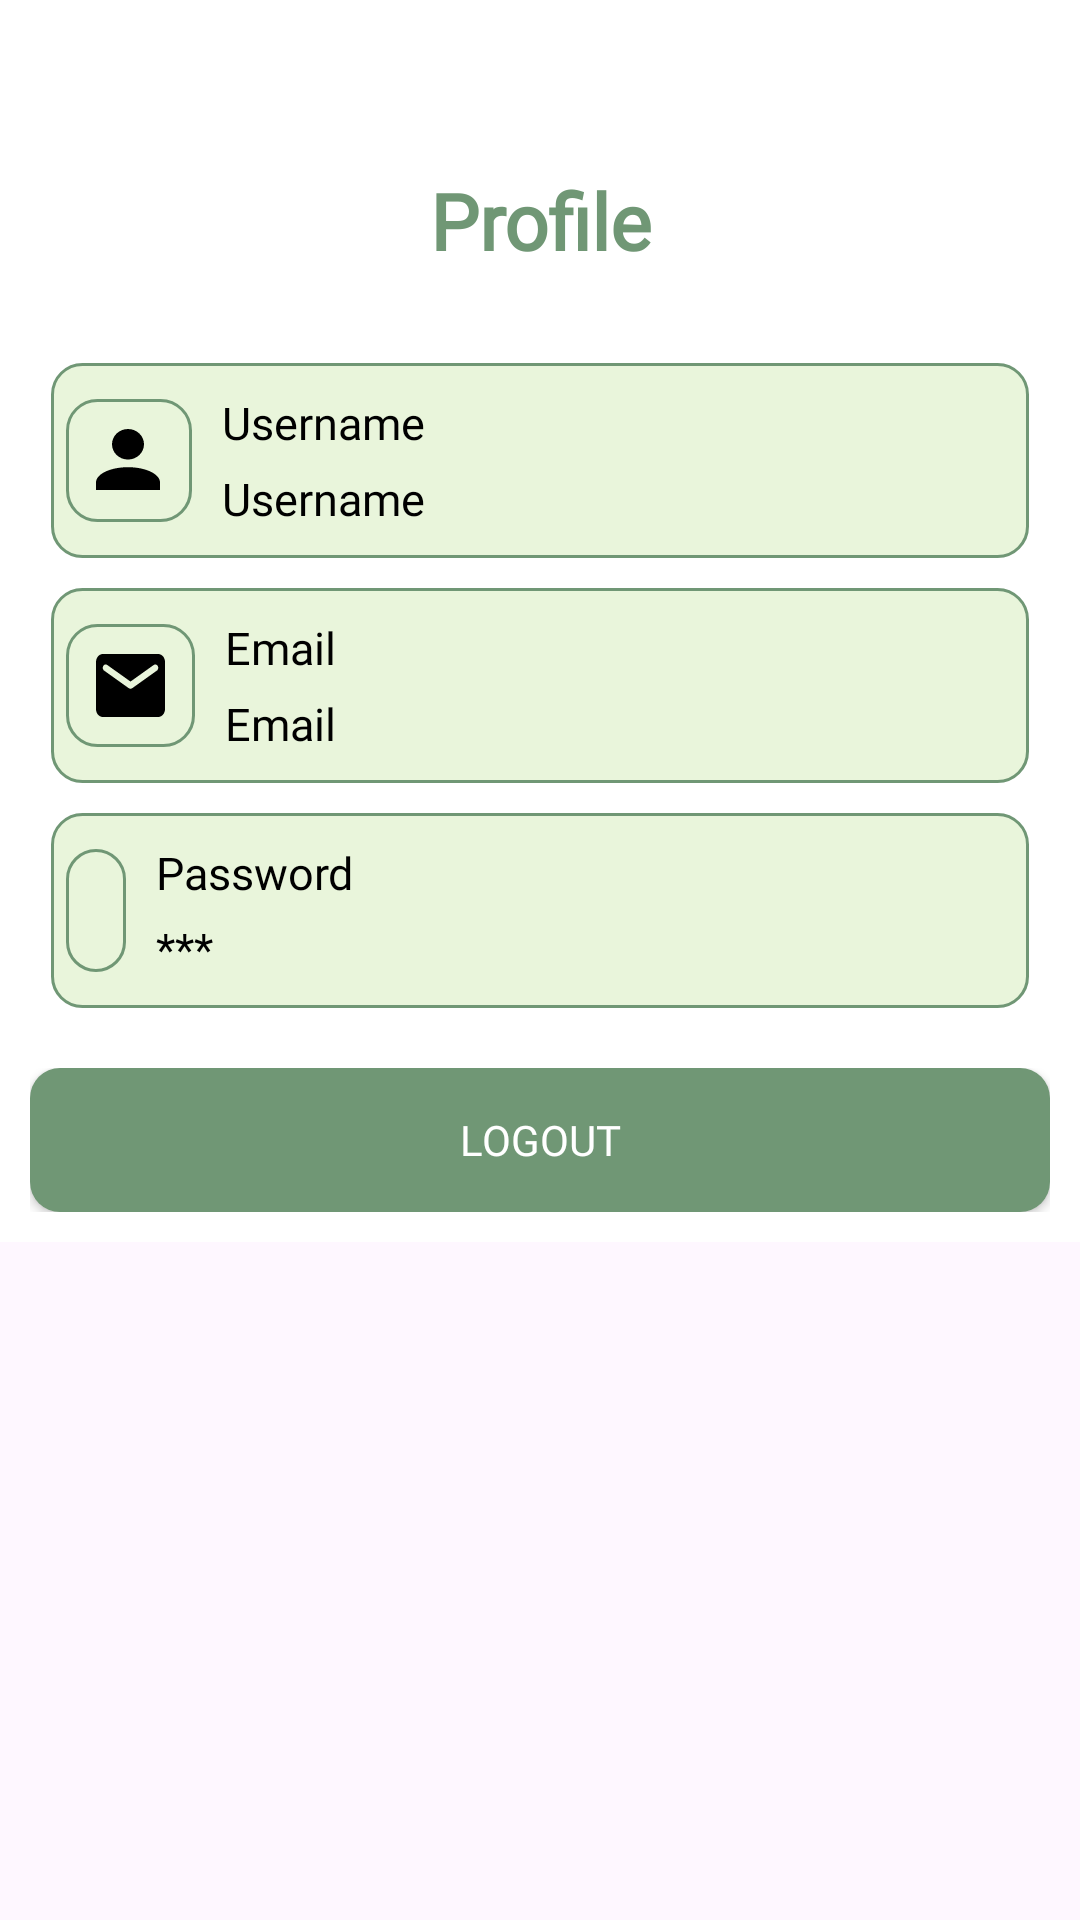

Icon bounding boxes for this 1080 × 1920 phone screenshot, format BBox(x1, y1, x2, y2):
profile: BBox(96, 429, 160, 490)
